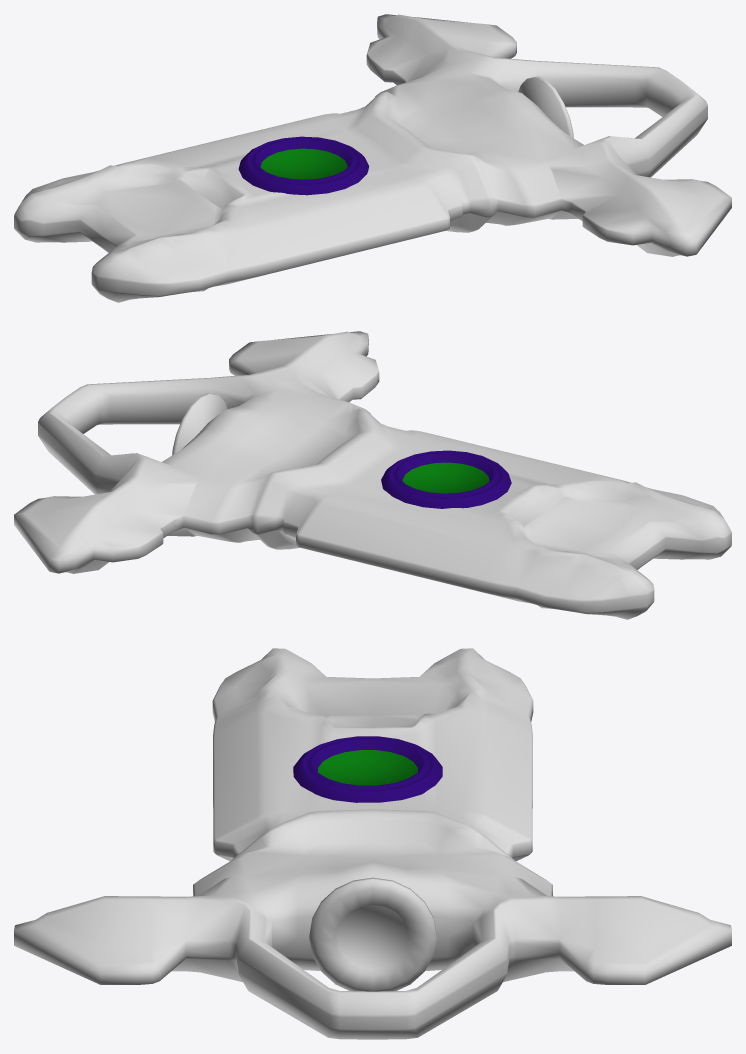
File: access_key_low.fbx
3 renders of one model, top to bottom at view 1: azimuth 30°, elevation 25°; view 2: azimuth 150°, elevation 25°; view 3: azimuth 270°, elevation 25°, orthographic. The views are drawn at different scales.
Visible parts, largest first — view 1: access_key_low, access_key_light_top_low, access_key_light_low; view 2: access_key_low, access_key_light_top_low, access_key_light_low; view 3: access_key_low, access_key_light_low, access_key_light_top_low.
Boxes of the visible parts, box(x1,y1,x2,y2) form: access_key_low: box(14, 14, 731, 302); access_key_light_top_low: box(238, 136, 369, 195); access_key_light_low: box(518, 76, 573, 138); access_key_low: box(14, 331, 731, 619); access_key_light_top_low: box(381, 450, 511, 508); access_key_light_low: box(172, 393, 227, 455); access_key_low: box(14, 648, 731, 1039); access_key_light_low: box(309, 877, 436, 991); access_key_light_top_low: box(293, 736, 442, 802).
Size of the model in its own units: 19.16 by 2.88 by 16.18.
